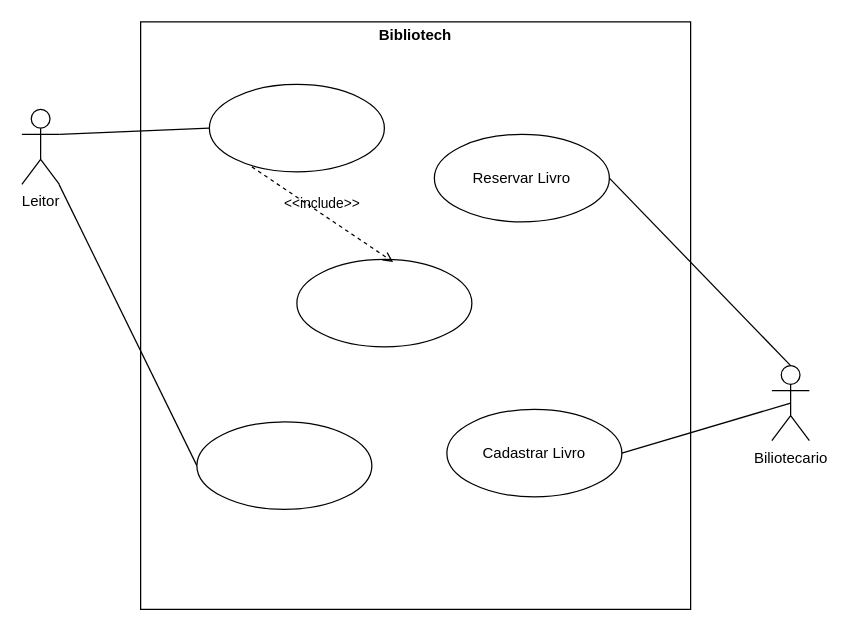
Some shapes in this 849 by 631 pixel diagram are drawn without their labels. The box of each missing label's shape, as (x1, y1, x2, y2) in pixels:
Consultar Acervo: (196, 421, 372, 509)
Consultar Disponibilidade: (296, 258, 472, 347)
Emprestar Livro: (208, 83, 384, 172)
